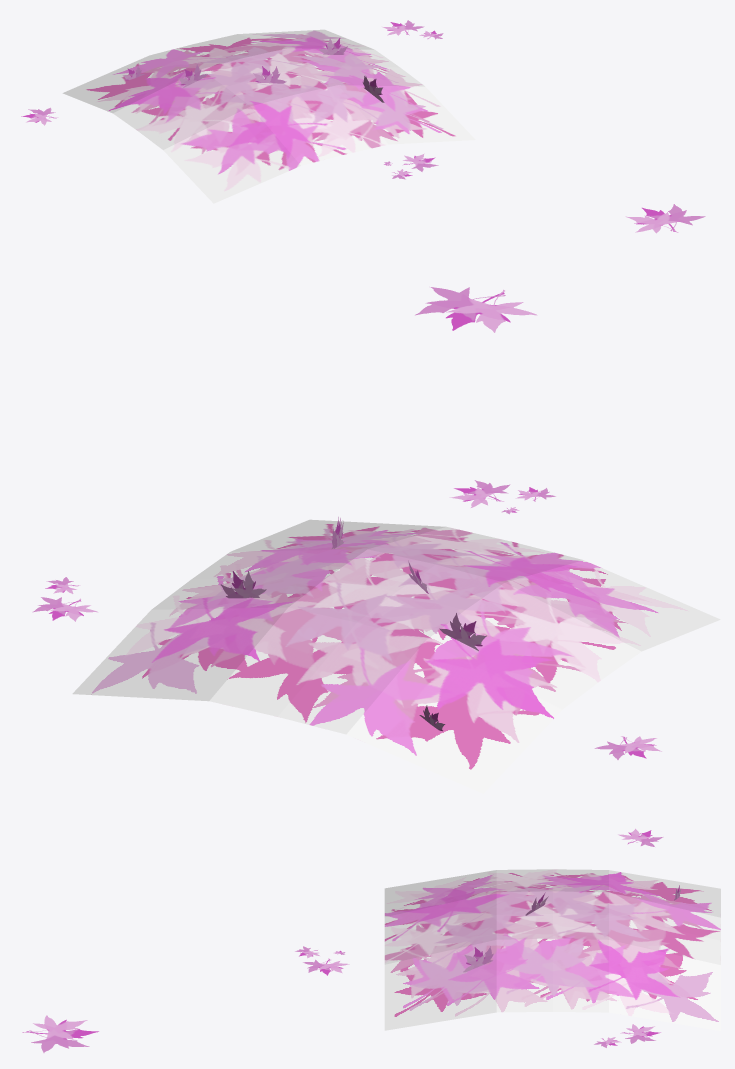
The model's file is Sakura_ Blaadjes_Final.fbx.
3 renders of one model, top to bottom at view 1: azimuth 30°, elevation 25°; view 2: azimuth 150°, elevation 25°; view 3: azimuth 270°, elevation 25°, orthographic. The views are drawn at different scales.
Parts seen in each view (by area): view 1: Plane, Plane.012; view 2: Plane, Plane.012; view 3: Plane, Plane.012, Plane.003.
Boxes of the visible parts, <box> form: Plane: <box>62,29,475,203</box>; Plane.012: <box>625,204,705,233</box>; Plane: <box>72,519,720,793</box>; Plane.012: <box>415,287,537,332</box>; Plane: <box>384,869,720,1030</box>; Plane.012: <box>22,1015,98,1052</box>; Plane.003: <box>463,946,493,972</box>.
Bounding box in the file's own units: 327 × 47.46 × 420.
